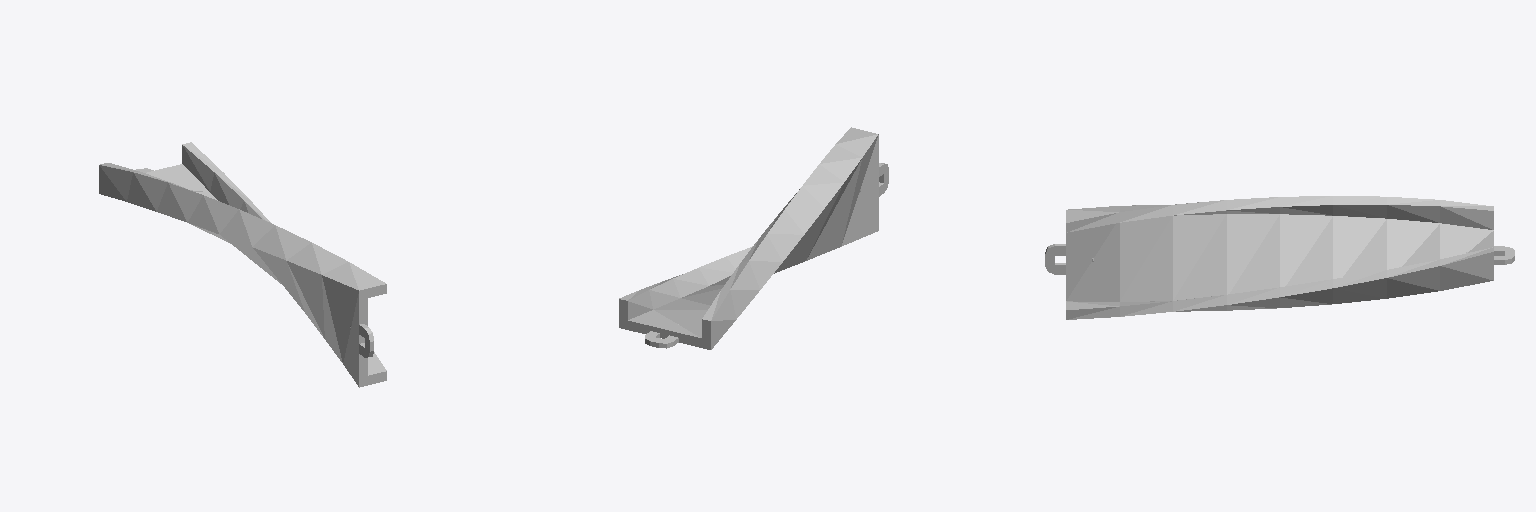
Rendered from track-narrow-straight-skew-left-side.obj.
The picture shows the model from 3 angles: view 1: azimuth 30°, elevation 25°; view 2: azimuth 150°, elevation 25°; view 3: azimuth 270°, elevation 25°; orthographic projection.
Parts seen in each view (by area): view 1: track-narrow-straight-skew-left-side; view 2: track-narrow-straight-skew-left-side; view 3: track-narrow-straight-skew-left-side.
Boxes of the visible parts, <box> form: track-narrow-straight-skew-left-side: <box>99,142,386,387</box>; track-narrow-straight-skew-left-side: <box>619,127,888,349</box>; track-narrow-straight-skew-left-side: <box>1045,196,1514,319</box>.
Bounding box in the file's own units: 1.08 × 1.08 × 4.4.